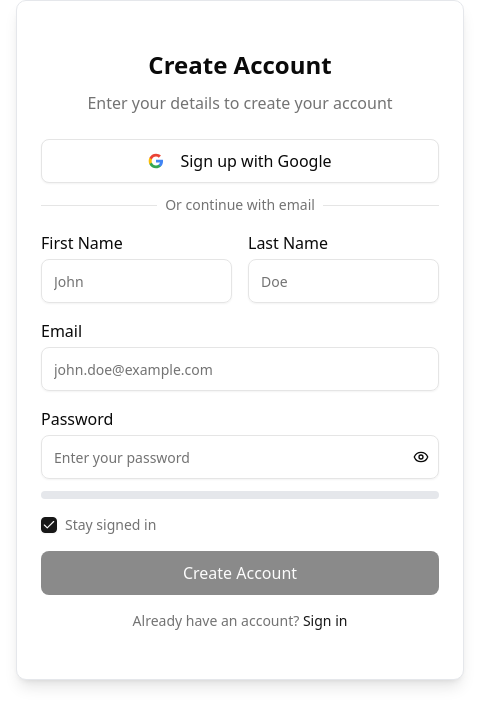
Test case: RegistrationForm › shows password strength indicator on typing
This screenshot has width=481, height=718.
Type "Abc123!@" into the password field labelled "Password" at (240, 457), box [41,435,439,479]
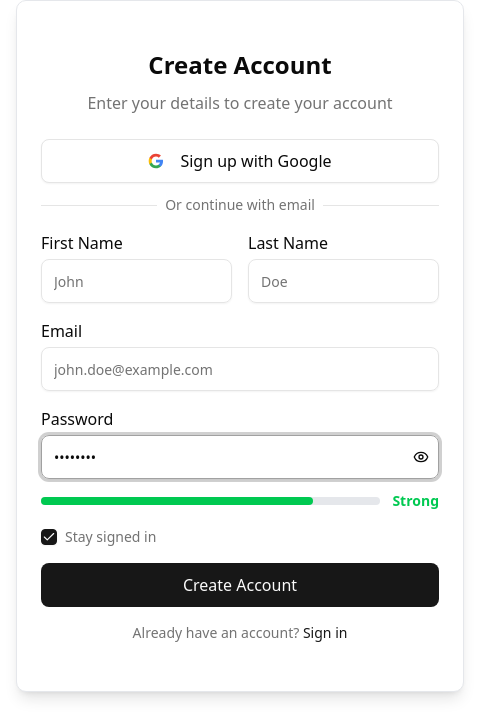
Expected: the text "Strong" is shown, [392,491,439,511]
